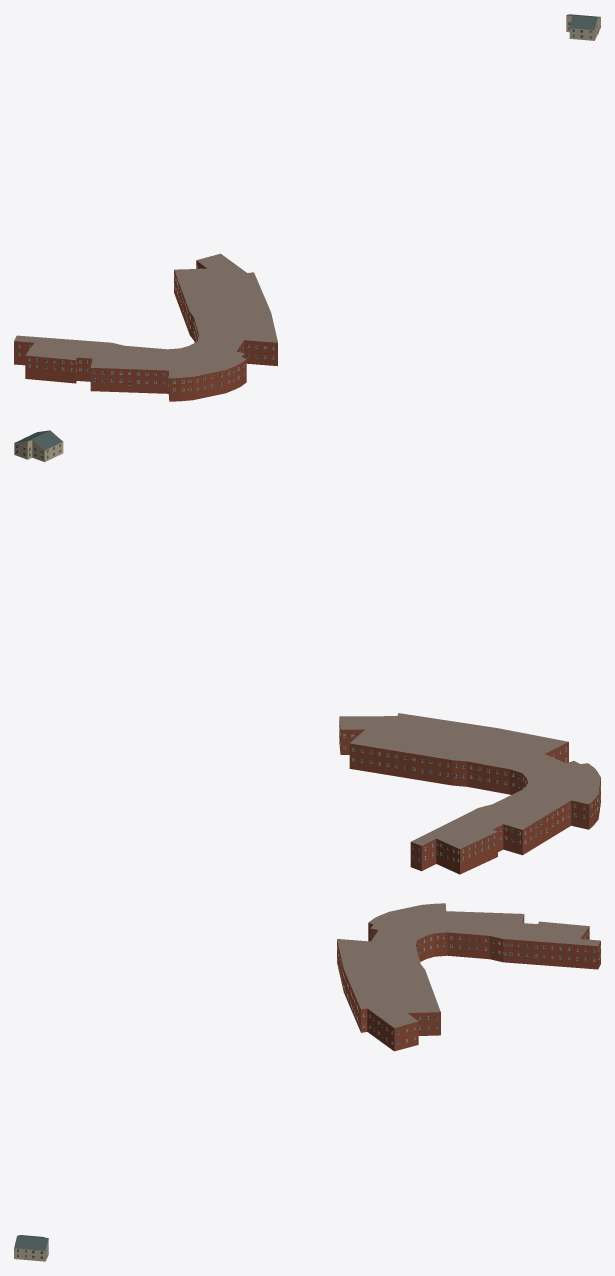
The picture shows the model from 3 angles, top to bottom: view 1: azimuth 90°, elevation 25°; view 2: azimuth 150°, elevation 25°; view 3: azimuth 270°, elevation 25°; orthographic projection. The views are drawn at different scales.
Parts seen in each view (by area): view 1: -2_1_318287795_0, -2_1_656850720_4; view 2: -2_1_318287795_0, -2_1_656850720_4; view 3: -2_1_318287795_0, -2_1_656850720_4.
Part boxes in pixels (x1,y1,x2,y2): -2_1_318287795_0: [14, 14, 600, 391]; -2_1_656850720_4: [14, 260, 277, 401]; -2_1_318287795_0: [14, 430, 600, 861]; -2_1_656850720_4: [339, 719, 600, 874]; -2_1_318287795_0: [14, 903, 600, 1261]; -2_1_656850720_4: [337, 915, 600, 1051].
Size of the model in its own units: 483 by 23.81 by 337.
